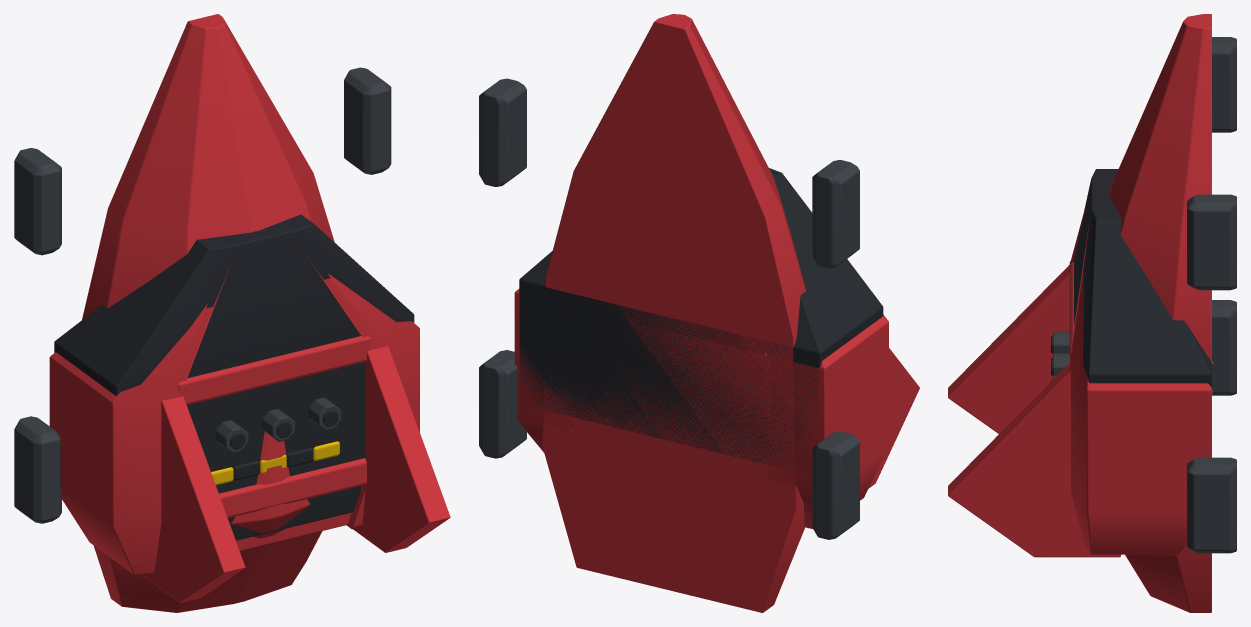
The model's file is CalfBack_Set07_Salvo.fbx.
The picture shows the model from 3 angles, left to right: view 1: azimuth 30°, elevation 25°; view 2: azimuth 150°, elevation 25°; view 3: azimuth 270°, elevation 25°; orthographic projection. The views are drawn at different scales.
Visible parts, largest first — view 1: CalfBack_Set07_Salvo; view 2: CalfBack_Set07_Salvo; view 3: CalfBack_Set07_Salvo.
Boxes of the visible parts, <box> form: CalfBack_Set07_Salvo: <box>14,14,450,612</box>; CalfBack_Set07_Salvo: <box>479,14,919,612</box>; CalfBack_Set07_Salvo: <box>948,14,1236,612</box>.
Bounding box in the file's own units: 0.49 × 0.73 × 0.3485.
